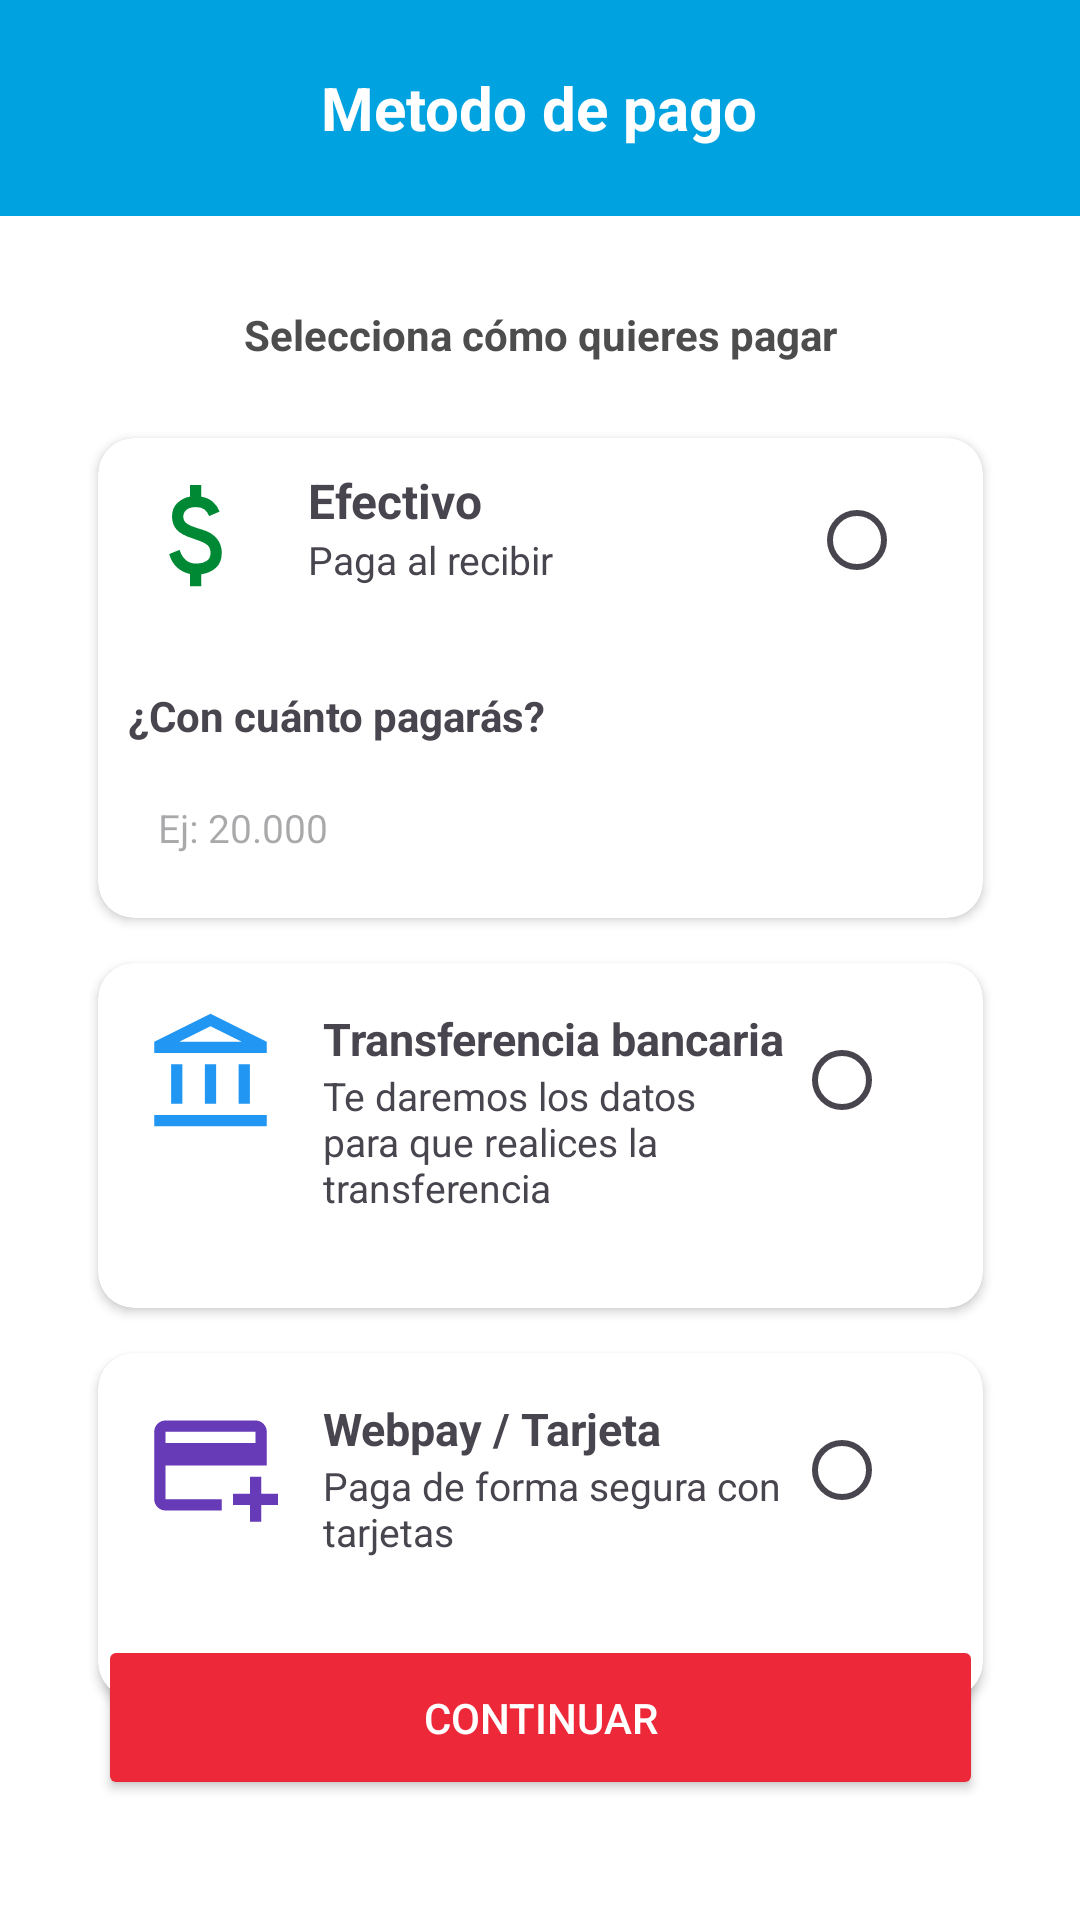

Locate icon controls on the screen. Image size 1080px×1920px, boxes as (x1, y1, x2, y2).
bank: (154, 1013, 267, 1127)
card: (154, 1420, 278, 1522)
money: (169, 485, 222, 587)
